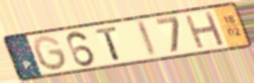6: (65, 29, 97, 68)
7: (153, 14, 183, 54)
G: (32, 34, 70, 72)
H: (183, 9, 228, 51)
I: (134, 19, 160, 59)
T: (93, 25, 123, 62)
